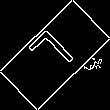L_SE: (27, 26, 83, 84)
